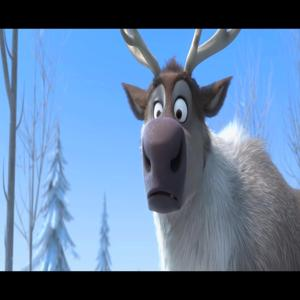sven: (120, 32, 269, 255)
